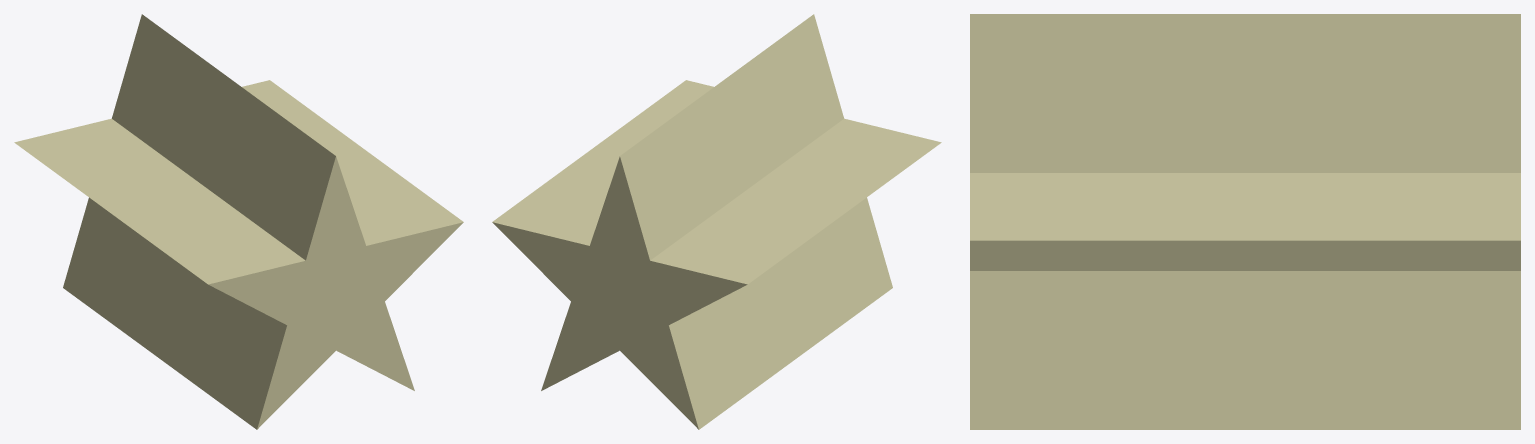
Rendered from extrude.glb.
3 renders of one model, left to right at view 1: azimuth 30°, elevation 25°; view 2: azimuth 150°, elevation 25°; view 3: azimuth 270°, elevation 25°, orthographic. The views are drawn at different scales.
Visible parts, largest first — view 1: geometry_0; view 2: geometry_0; view 3: geometry_0.
Part boxes in pixels (x1,y1,x2,y2): geometry_0: (14, 14, 463, 429); geometry_0: (492, 14, 941, 429); geometry_0: (970, 14, 1520, 429).
Size of the model in its own units: 7.61 by 7.24 by 10.
